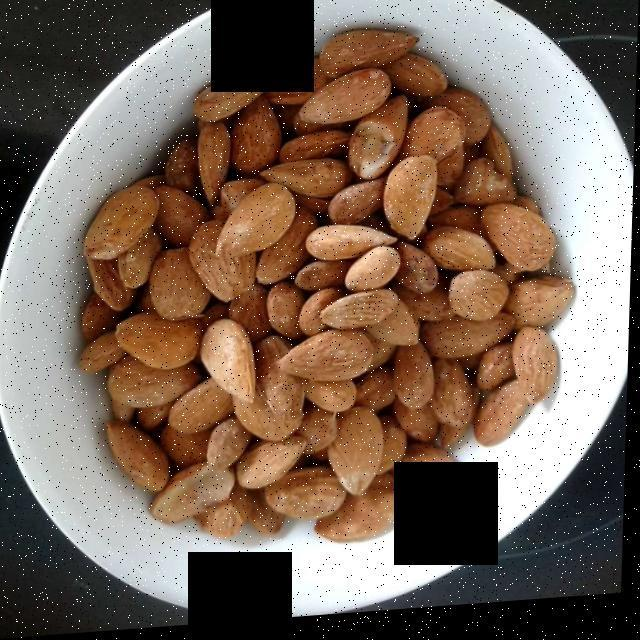almonds: (89, 40, 561, 538)
